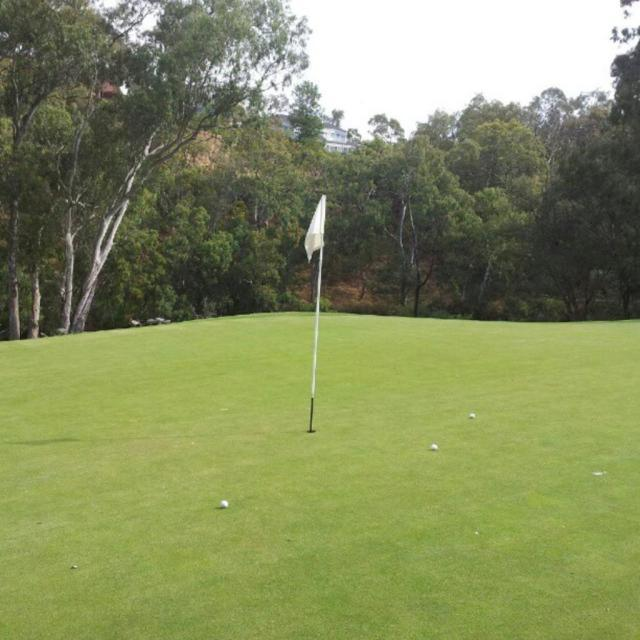golfball: (218, 496, 232, 509), (430, 443, 438, 452), (470, 412, 476, 418)
